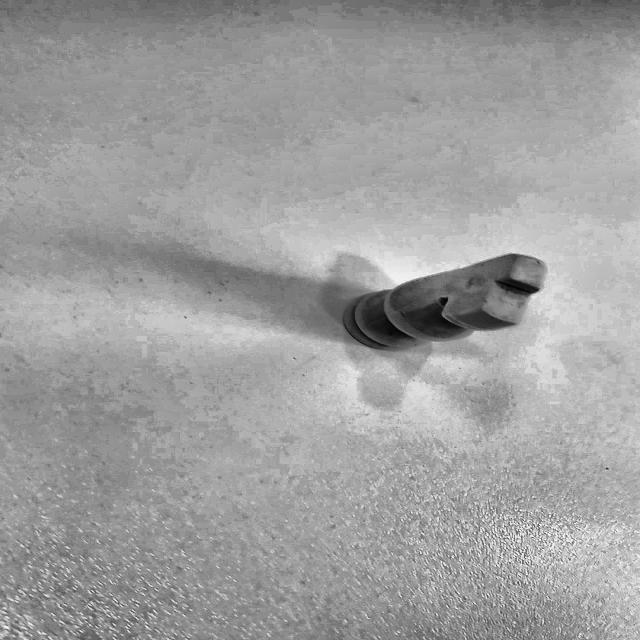white-knight: (310, 240, 557, 374)
